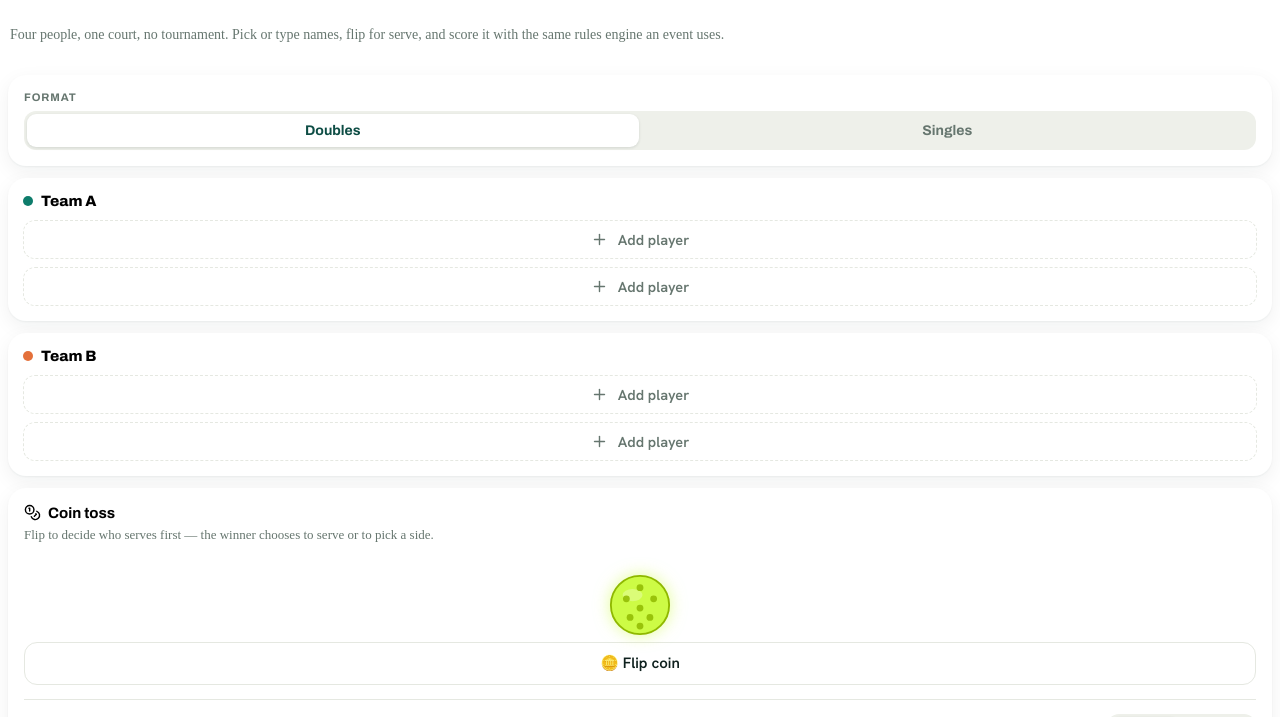
Test: pickup game setup › a slot can be cleared after picking
This screenshot has width=1280, height=717.
Click the 1st button "Add player". click: click(640, 240)
box: [23, 220, 1257, 259]
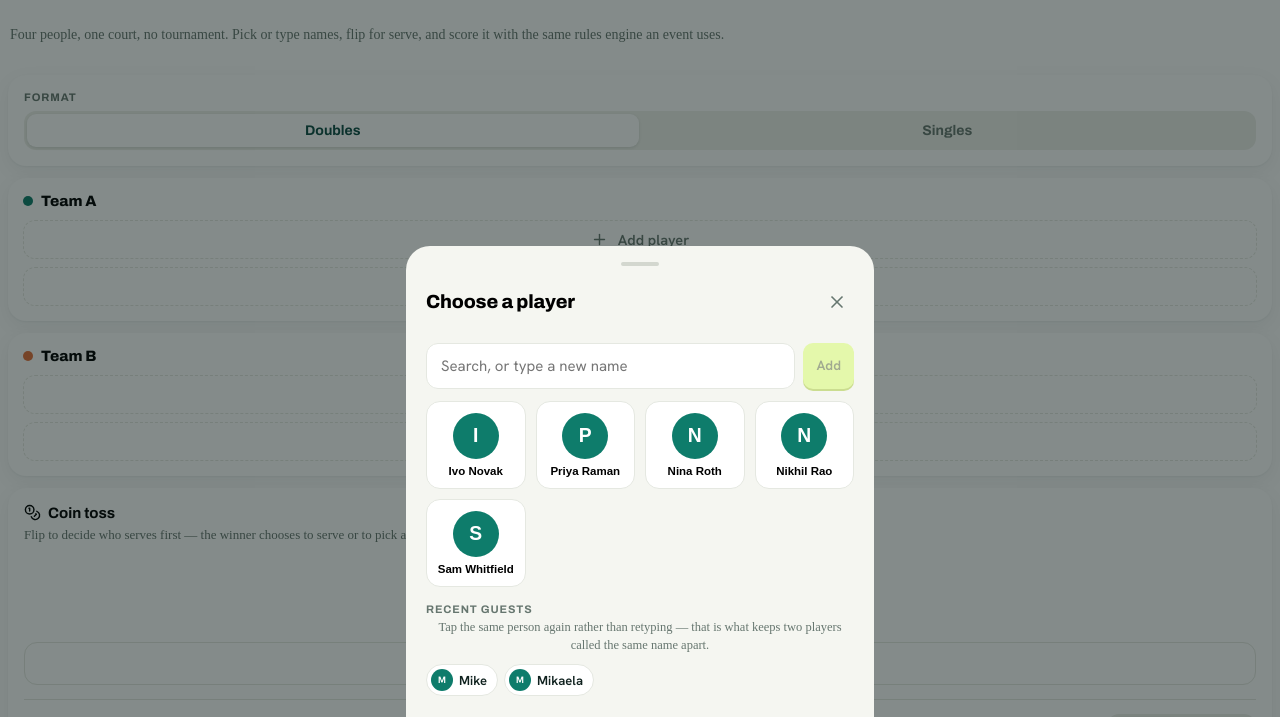
Expected: the heading "Choose a player" is shown, [426, 291, 575, 312]
Expected: the text "Ivo Novak" is shown
Click the text "Ivo Novak". click: click(476, 471)
box: [449, 465, 503, 477]
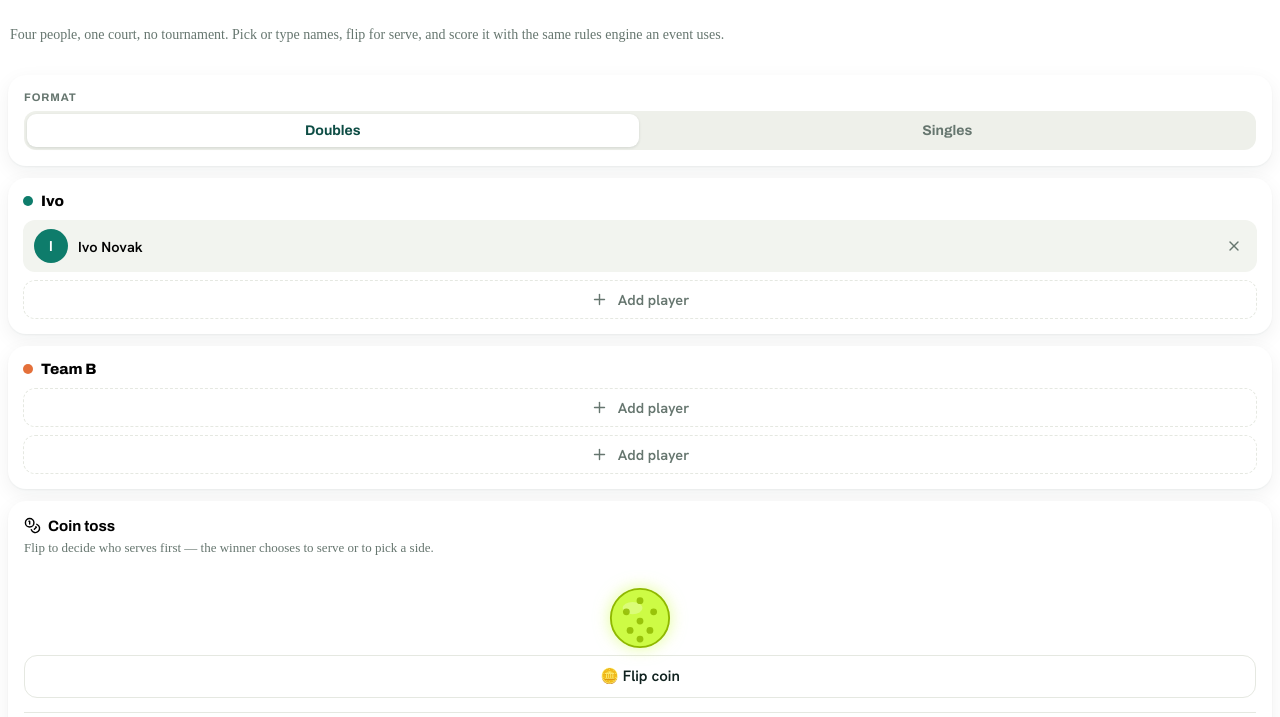
Expected: the text "Ivo Novak" is shown, [78, 236, 143, 256]
Expected: the heading "Choose a player" is gone
Click the button named "Remove Ivo Novak". click: click(1234, 246)
box: [1222, 234, 1246, 258]
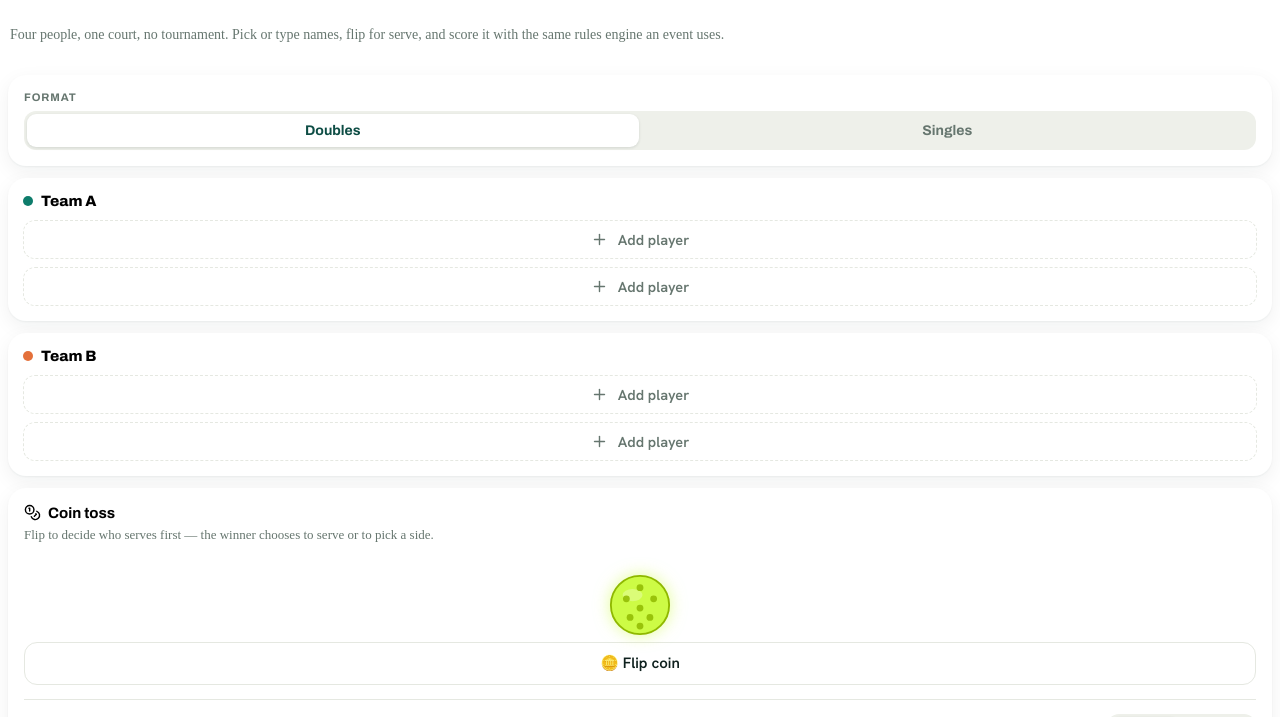
Expected: the number of buttons "Add player" is 4, [23, 220, 1257, 259]; [23, 267, 1257, 306]; [23, 375, 1257, 414]; [23, 422, 1257, 461]
